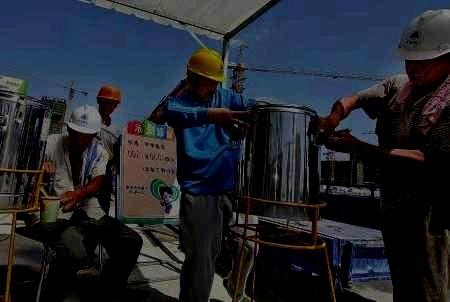helmet: (391, 8, 450, 89), (186, 47, 226, 101), (66, 103, 102, 152), (96, 84, 122, 117)
